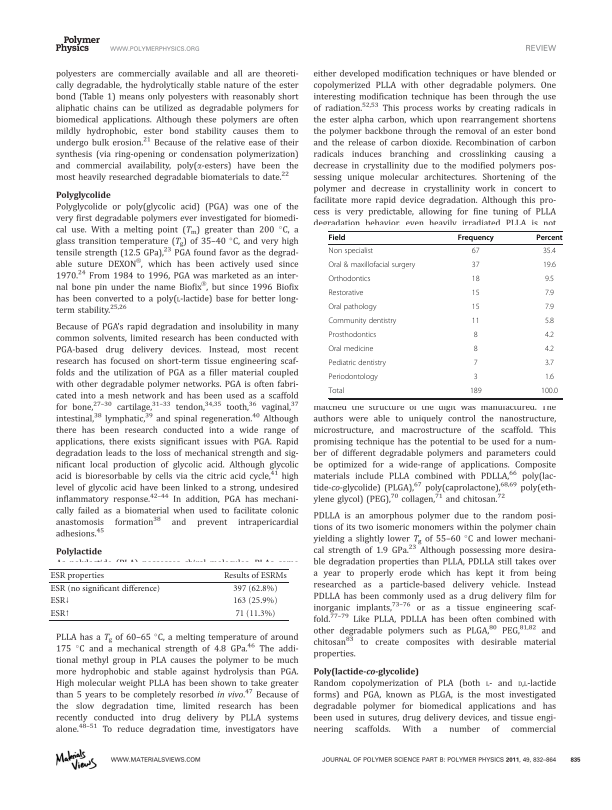borderless: (327, 230, 562, 398), (47, 567, 289, 620)
cell: (49, 584, 161, 594), (328, 261, 416, 271), (328, 317, 397, 327), (223, 571, 288, 581), (328, 359, 387, 369), (49, 571, 105, 581), (328, 373, 379, 383), (328, 303, 377, 313), (328, 331, 377, 341), (234, 608, 276, 619), (232, 584, 278, 594), (232, 596, 278, 606), (328, 247, 374, 257), (328, 345, 374, 355), (328, 275, 371, 285), (328, 289, 364, 299), (457, 234, 495, 243), (535, 234, 563, 243), (49, 608, 71, 619), (49, 596, 71, 606), (540, 387, 559, 397), (328, 387, 345, 397), (328, 234, 346, 243), (542, 247, 557, 257), (542, 261, 557, 271), (469, 387, 482, 397), (544, 275, 555, 285), (544, 289, 555, 299), (544, 303, 555, 313), (544, 317, 555, 327), (544, 331, 555, 341), (544, 345, 555, 355), (544, 359, 555, 369), (544, 373, 555, 383), (471, 247, 480, 257), (471, 261, 480, 271), (471, 275, 480, 285), (471, 289, 480, 299), (471, 303, 480, 313), (471, 317, 480, 327), (473, 331, 479, 341), (473, 345, 479, 355), (473, 359, 479, 369), (473, 373, 479, 383)
